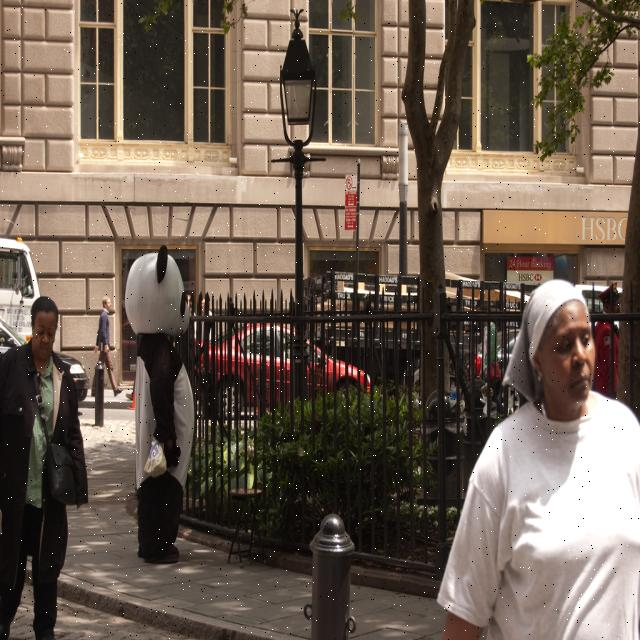panda: (123, 244, 199, 560)
